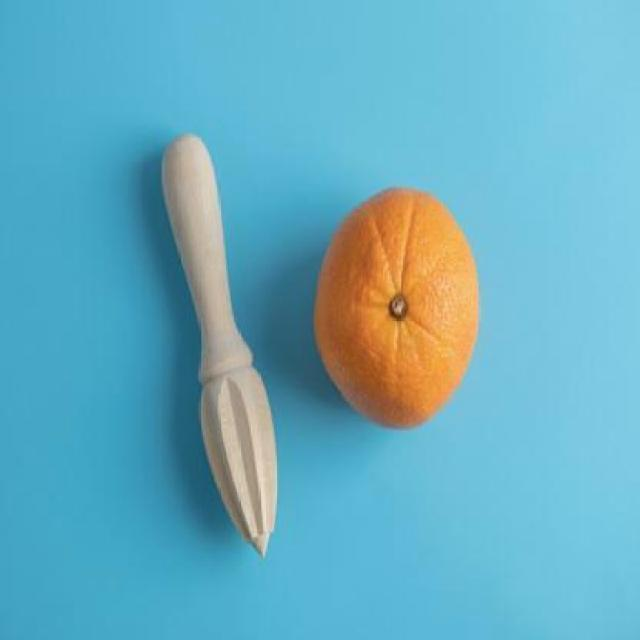Jeruk Sudah Matang: (315, 187, 483, 436)
